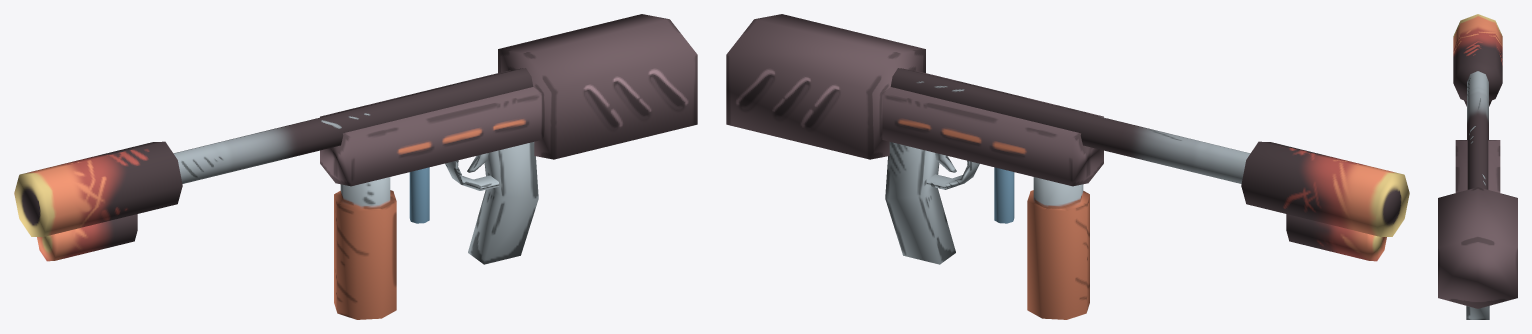
Rendered from FireGun.fbx.
3 views of the same model, side by side, from view 1: azimuth 30°, elevation 25°; view 2: azimuth 150°, elevation 25°; view 3: azimuth 270°, elevation 25° (orthographic). The views are drawn at different scales.
Parts seen in each view (by area): view 1: Firegun:pCube3, Firegun:pCube1, Firegun:pasted__pCylinder1, Firegun:pCylinder1, Firegun:pasted__pasted__pCylinder2, Firegun:pCube2, Firegun:pasted__pasted__pCylinder1, Firegun:pasted__pasted__pasted__pCylinder1, Firegun:pCube4; view 2: Firegun:pCube3, Firegun:pCube1, Firegun:pasted__pCylinder1, Firegun:pCylinder1, Firegun:pasted__pasted__pCylinder2, Firegun:pCube2, Firegun:pasted__pasted__pCylinder1, Firegun:pasted__pasted__pasted__pCylinder1, Firegun:pCube4; view 3: Firegun:pCube3, Firegun:pasted__pCylinder1, Firegun:pCylinder1, Firegun:pCube1, Firegun:pCube2.
Boxes of the visible parts, left/top/right/bottom form: Firegun:pCube3: left=498, top=14, right=697, bottom=159; Firegun:pCube1: left=320, top=70, right=541, bottom=186; Firegun:pasted__pCylinder1: left=14, top=141, right=182, bottom=236; Firegun:pCylinder1: left=173, top=68, right=533, bottom=183; Firegun:pasted__pasted__pCylinder2: left=334, top=177, right=396, bottom=319; Firegun:pCube2: left=468, top=142, right=538, bottom=264; Firegun:pasted__pasted__pCylinder1: left=37, top=214, right=137, bottom=261; Firegun:pasted__pasted__pasted__pCylinder1: left=409, top=167, right=429, bottom=223; Firegun:pCube4: left=445, top=160, right=499, bottom=190; Firegun:pCube3: left=726, top=14, right=925, bottom=159; Firegun:pCube1: left=882, top=70, right=1103, bottom=186; Firegun:pasted__pCylinder1: left=1241, top=141, right=1409, bottom=236; Firegun:pCylinder1: left=890, top=68, right=1250, bottom=183; Firegun:pasted__pasted__pCylinder2: left=1027, top=177, right=1089, bottom=319; Firegun:pCube2: left=885, top=142, right=955, bottom=264; Firegun:pasted__pasted__pCylinder1: left=1286, top=214, right=1386, bottom=261; Firegun:pasted__pasted__pasted__pCylinder1: left=994, top=167, right=1014, bottom=223; Firegun:pCube4: left=926, top=160, right=979, bottom=189; Firegun:pCube3: left=1438, top=187, right=1517, bottom=308; Firegun:pasted__pCylinder1: left=1453, top=14, right=1502, bottom=101; Firegun:pCylinder1: left=1467, top=71, right=1488, bottom=189; Firegun:pCube1: left=1455, top=140, right=1500, bottom=192; Firegun:pCube2: left=1466, top=306, right=1489, bottom=319.
Size of the model in its own units: 5.78 by 1.85 by 0.8757.
